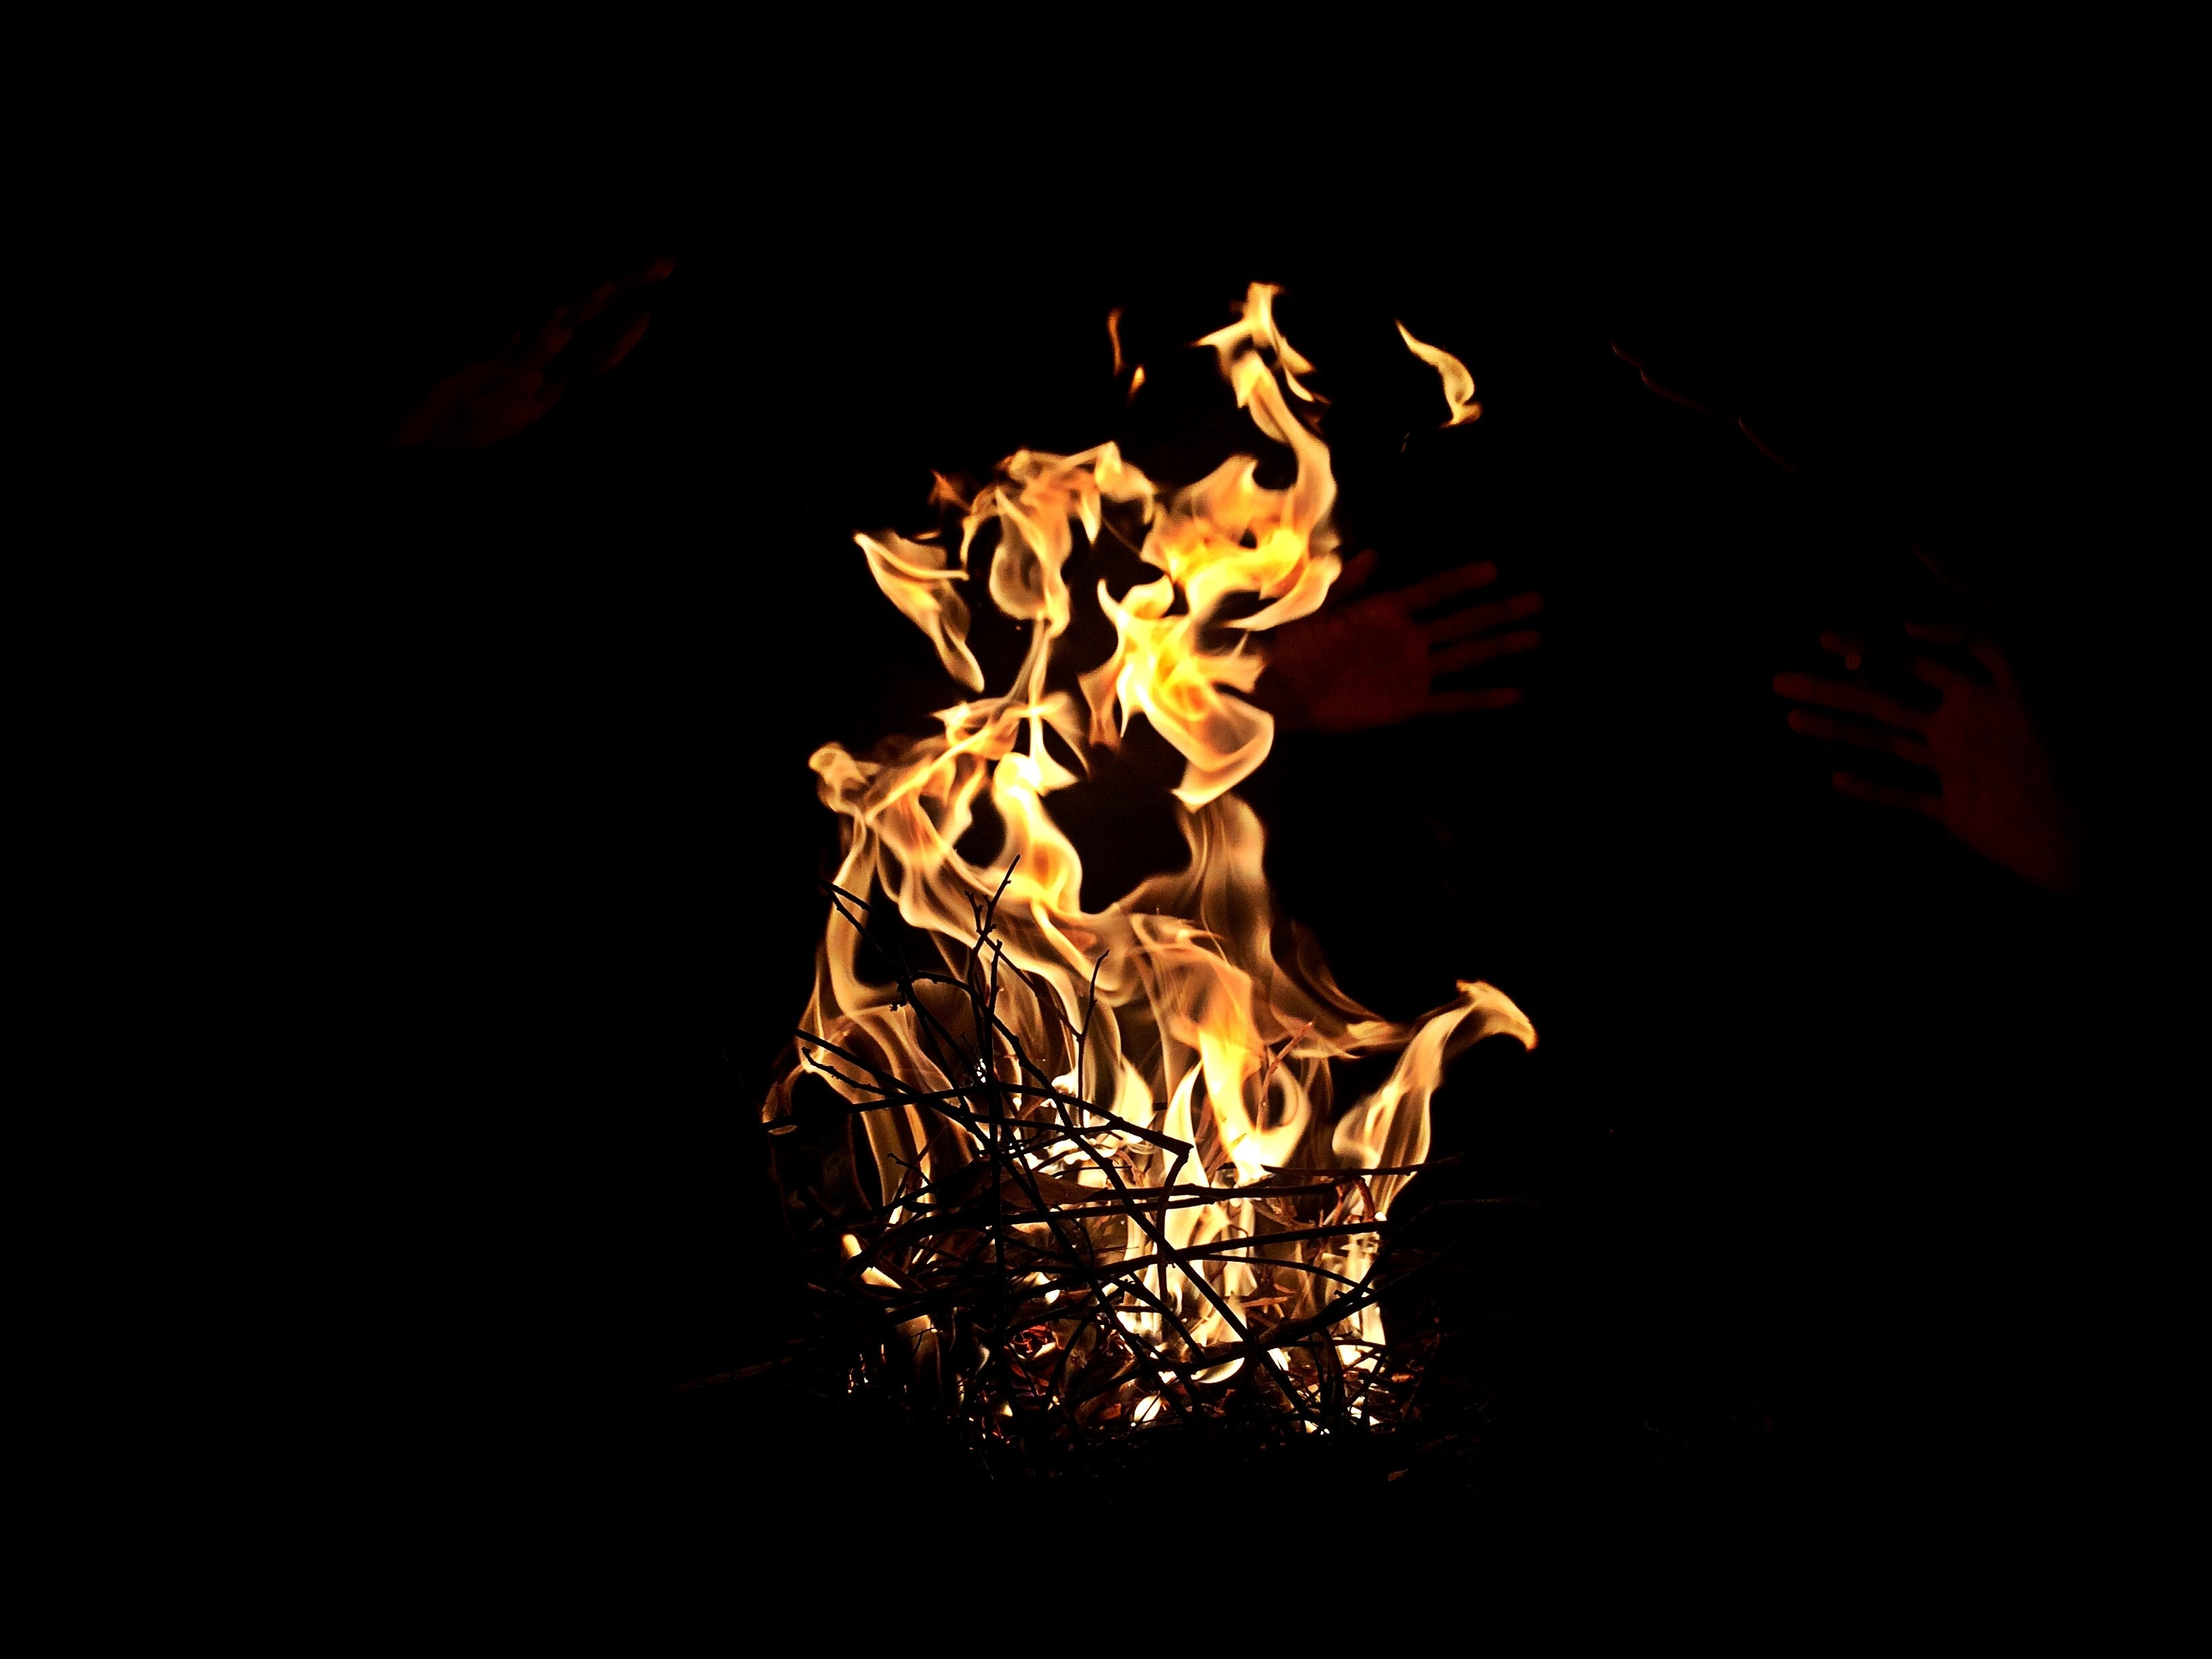fire: (777, 230, 1562, 1507)
